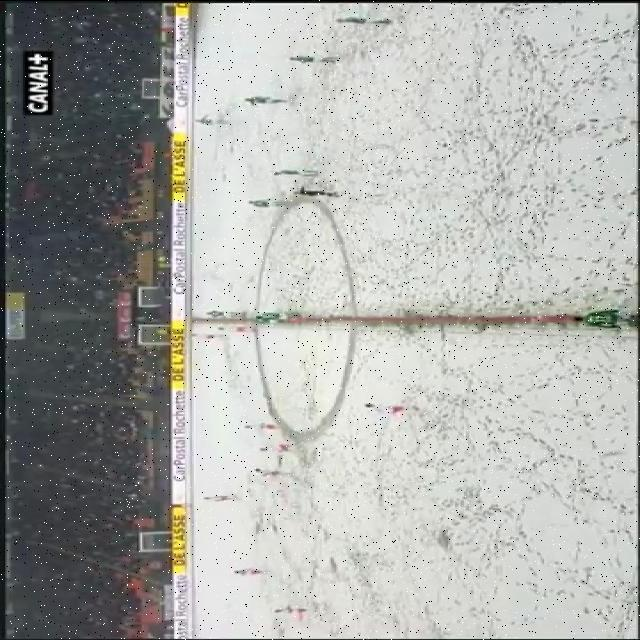player: (554, 304, 640, 334), (258, 589, 333, 618), (180, 483, 256, 511), (349, 388, 431, 411), (324, 10, 402, 34), (230, 90, 314, 112), (280, 49, 354, 73), (247, 434, 319, 456), (225, 557, 294, 578), (270, 162, 338, 182), (230, 415, 294, 435), (235, 194, 297, 213), (242, 461, 302, 480), (252, 308, 317, 324), (209, 319, 266, 335), (194, 112, 240, 127), (186, 306, 234, 320)
referee: (283, 181, 339, 197)
